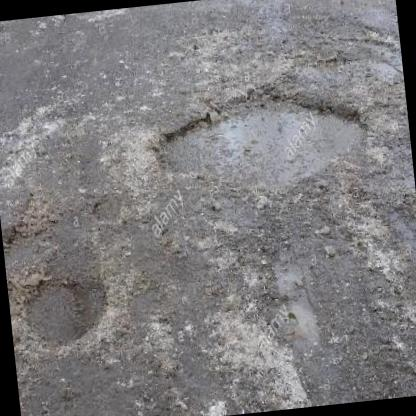pothole: (142, 70, 376, 205), (17, 268, 110, 350), (255, 250, 327, 351)
